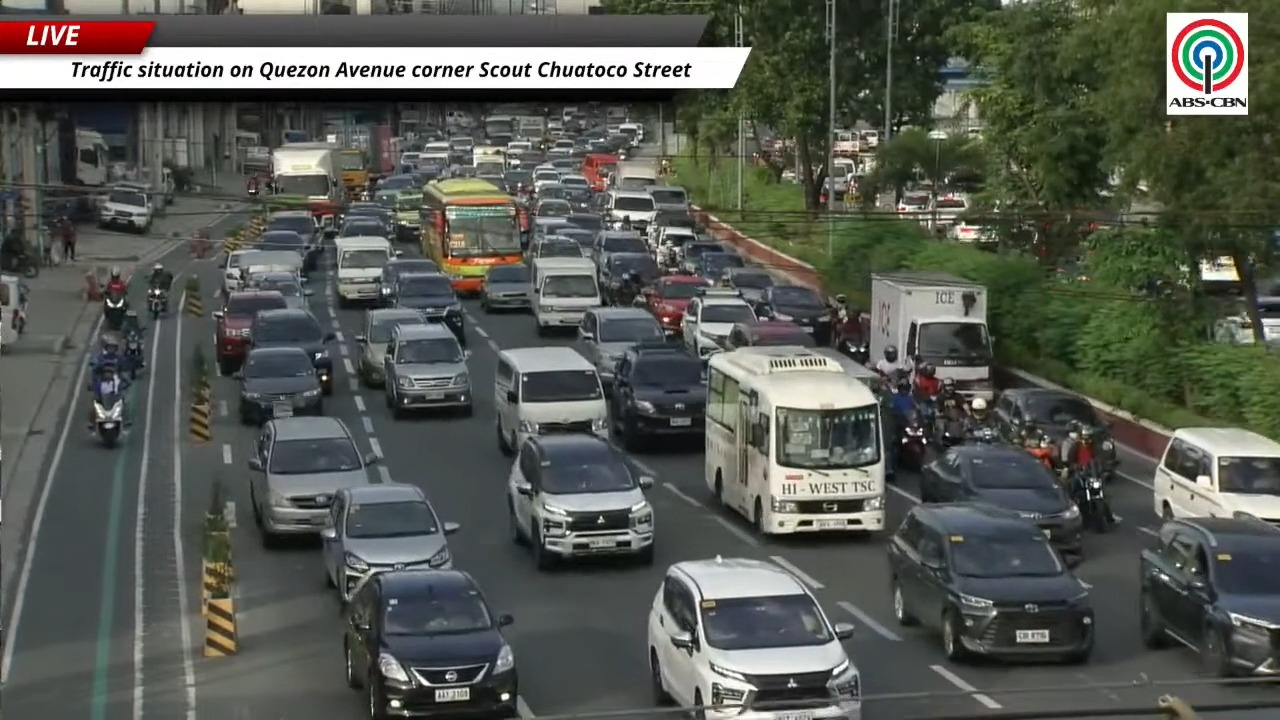bus: (705, 346, 886, 534), (421, 178, 522, 292), (337, 147, 369, 197)
car: (647, 557, 861, 718), (888, 502, 1094, 662), (343, 569, 517, 719), (1139, 513, 1279, 676), (507, 434, 654, 569), (920, 443, 1083, 562), (247, 416, 381, 546), (321, 483, 459, 600), (493, 346, 607, 453), (993, 388, 1117, 478), (611, 342, 706, 449), (383, 323, 472, 418), (249, 308, 335, 394), (575, 307, 663, 390), (237, 347, 322, 423), (213, 290, 287, 375), (389, 272, 465, 346), (354, 308, 424, 387), (680, 287, 755, 358), (754, 285, 831, 345), (645, 276, 708, 335), (263, 210, 320, 270), (598, 252, 662, 303), (379, 257, 439, 303), (723, 321, 814, 350), (97, 189, 153, 233), (479, 264, 530, 312), (246, 271, 312, 308), (256, 229, 309, 270), (605, 190, 655, 232), (591, 230, 647, 267), (648, 225, 697, 267), (719, 266, 774, 302), (344, 201, 394, 236), (221, 248, 256, 297), (682, 240, 730, 273), (695, 252, 747, 281), (529, 235, 582, 260), (555, 225, 595, 256), (337, 216, 392, 238), (646, 185, 689, 211), (376, 173, 420, 191), (503, 168, 532, 195), (531, 217, 570, 237), (561, 186, 592, 211), (533, 197, 572, 216), (565, 213, 604, 232), (533, 167, 559, 193), (560, 173, 590, 191), (538, 184, 566, 202)
motorcycle: (1073, 464, 1111, 533), (898, 413, 928, 470), (94, 392, 123, 447), (0, 251, 39, 278), (122, 333, 143, 379), (103, 293, 127, 330), (937, 418, 966, 448), (837, 339, 869, 364), (966, 425, 1002, 443), (147, 287, 166, 319)
truck: (869, 271, 994, 399), (39, 117, 111, 221), (270, 142, 344, 231), (611, 159, 660, 190), (369, 124, 396, 179), (515, 115, 546, 139)
